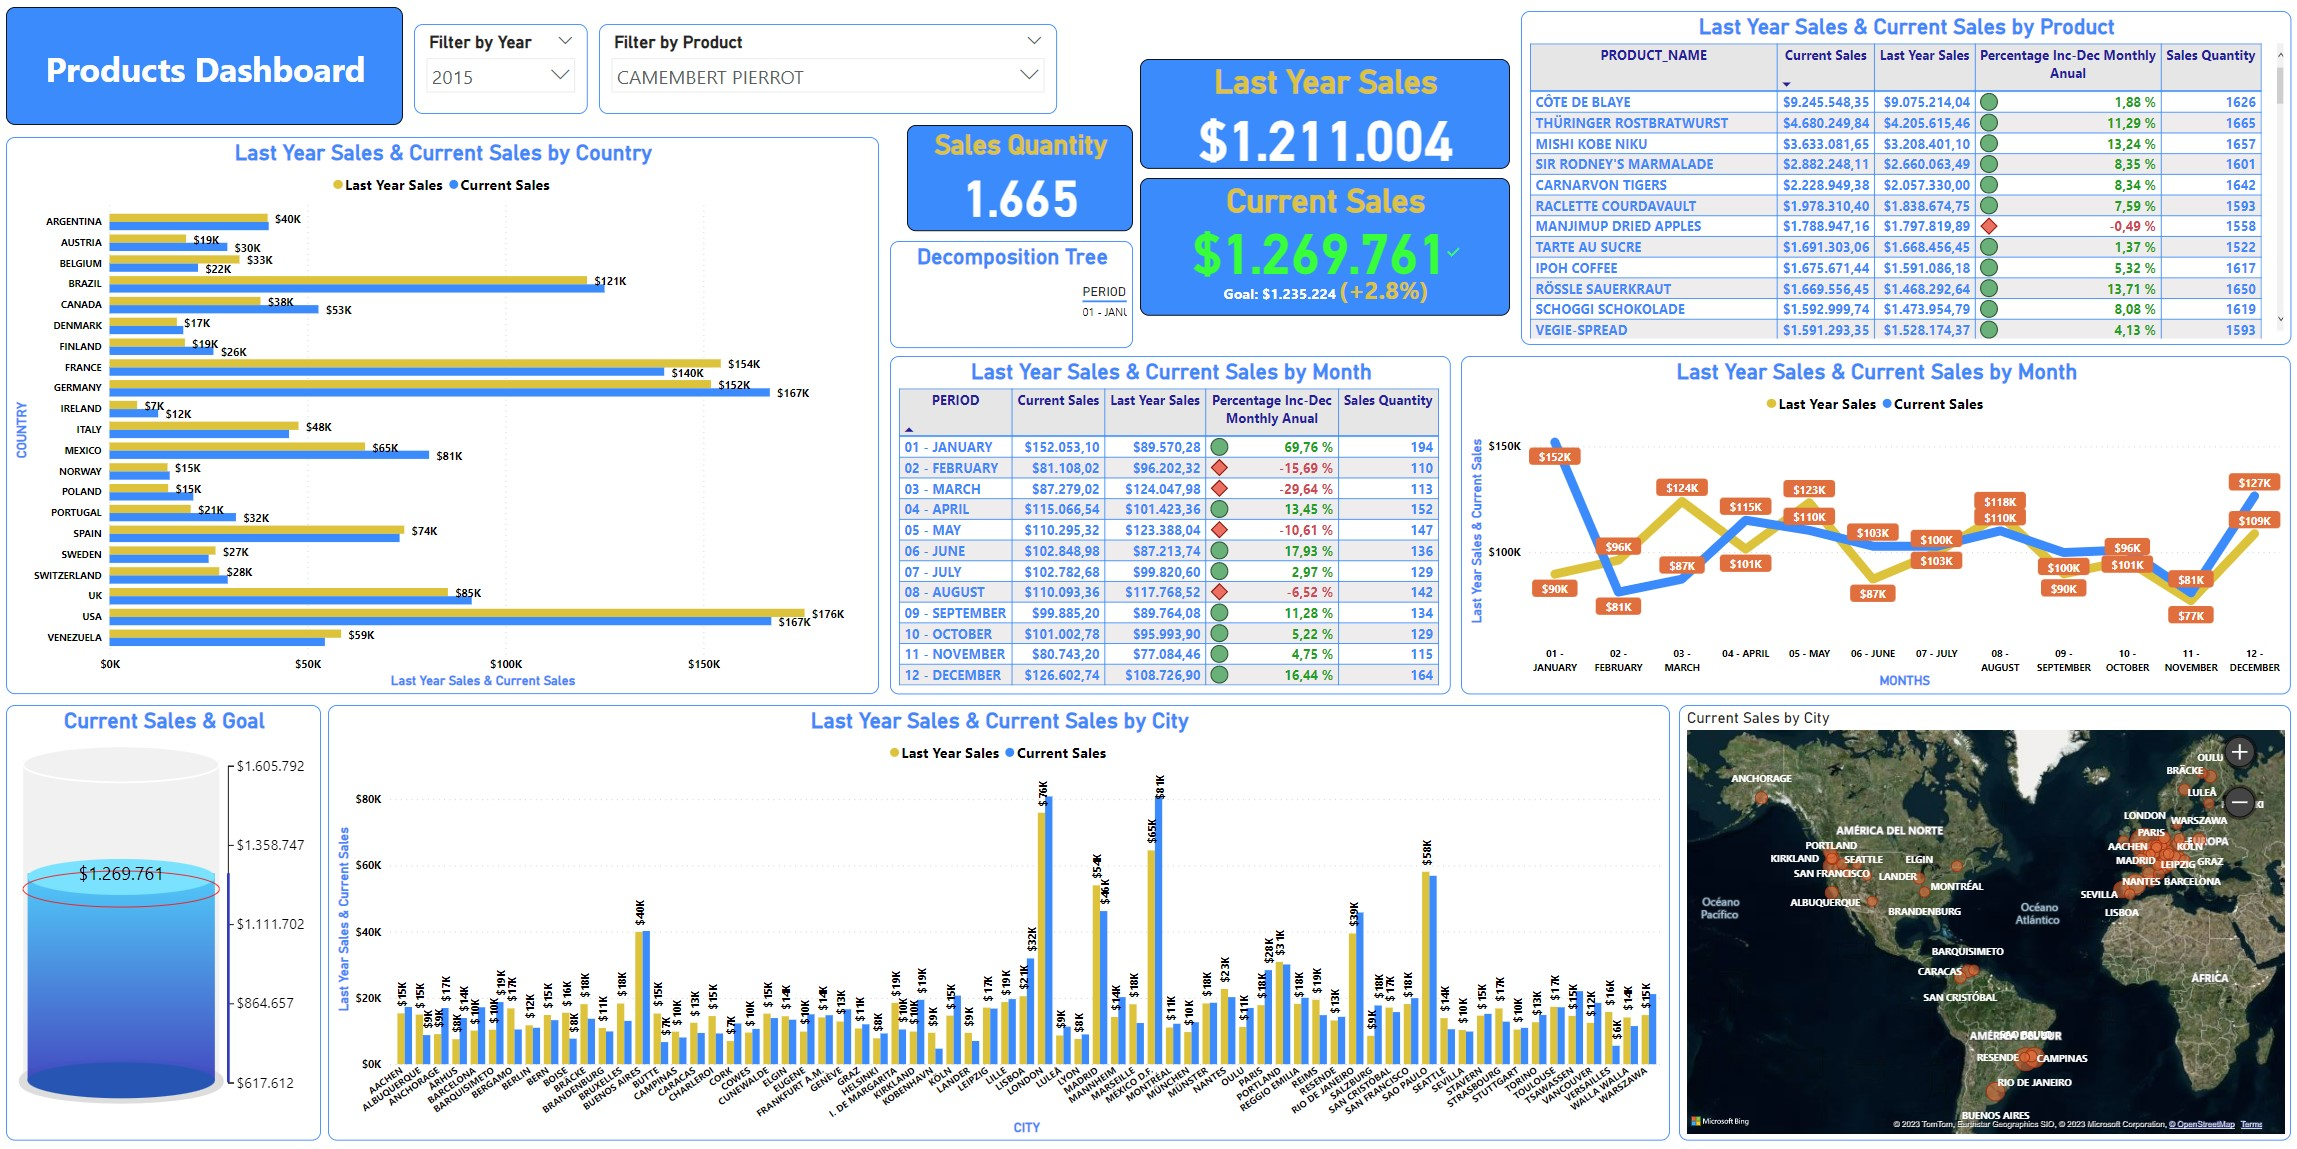

The dashboard page shown, as its layout file describes it:
{"tool":"powerbi","page":{"name":"Products","canvas":[2560,1280],"ordinal":3},"visuals":[{"type":"slicer","fields":{"Values":["DIM_TIME.YEAR"]},"box":[463.3,28.9,193.3,100],"z":0},{"type":"card","title":"Last Year Sales","fields":{"Values":["METRICAS.Ventas del año anterior"]},"box":[1270,67.8,411.1,122.2],"z":1000},{"type":"kpi","title":"Current Sales","fields":{"Indicator":["METRICAS.Ventas actuales"],"TrendLine":["DIM_TIME.YEAR"],"Goal":["METRICAS.Monto Meta"]},"box":[1270,200,411.1,153.3],"z":2000},{"type":"tableEx","title":"Last Year Sales & Current Sales by Month","fields":{"Values":["DIM_TIME.PERIOD","METRICAS.Ventas actuales","METRICAS.Ventas del año anterior","METRICAS.Porcentaje Inc-Dec Mensual Anual","METRICAS.Cantidad de ordenes"]},"box":[992.2,397.8,623.3,375.6],"z":3000},{"type":"card","title":"Sales Quantity","fields":{"Values":["METRICAS.Cantidad de ordenes"]},"box":[1011.1,141.1,251.1,117.8],"z":4000},{"type":"clusteredBarChart","title":"Last Year Sales & Current Sales by Country","fields":{"Category":["DIM_CUSTOMERS.COUNTRY"],"Y":["METRICAS.Ventas del año anterior","METRICAS.Ventas actuales"]},"box":[10,154.4,970,618.9],"z":5000},{"type":"lineChart","title":"Last Year Sales & Current Sales by Month","fields":{"Category":["DIM_TIME.PERIOD"],"Y":["METRICAS.Ventas del año anterior","METRICAS.Ventas actuales"]},"box":[1626.7,397.8,922.2,375.6],"z":6000},{"type":"clusteredColumnChart","title":"Last Year Sales & Current Sales by City","fields":{"Y":["METRICAS.Ventas del año anterior","METRICAS.Ventas actuales"],"Category":["DIM_CUSTOMERS.CITY"]},"box":[367.8,785.6,1491.1,484.4],"z":7000},{"type":"textbox","box":[10,10,441.1,131.1],"z":8000},{"type":"slicer","fields":{"Values":["DIM_PRODUCTS.PRODUCT_NAME"]},"box":[668.9,28.9,508.9,100],"z":9000},{"type":"tableEx","title":"Last Year Sales & Current Sales by Product","fields":{"Values":["DIM_PRODUCTS.PRODUCT_NAME","METRICAS.Ventas actuales","METRICAS.Ventas del año anterior","METRICAS.Porcentaje Inc-Dec Mensual Anual","METRICAS.Cantidad de ordenes"]},"box":[1693.3,14.4,855.6,371.1],"z":10000},{"type":"map","title":"Current Sales by City","fields":{"Category":["DIM_CUSTOMERS.CITY"],"Size":["METRICAS.Current Sales"]},"box":[1868.9,785.6,680,484.4],"z":11000},{"type":"decompositionTreeVisual","title":"Decomposition Tree","fields":{"Analyze":["METRICAS.Current Sales"],"ExplainBy":["DIM_TIME.PERIOD","DIM_EMPLOYEES.EMPLOYEE_NAME","DIM_PRODUCTS.CATEGORY","DIM_PRODUCTS.PRODUCT_NAME","DIM_PRODUCTS.SUPPLIER","DIM_CUSTOMERS.CONTACT_NAME"]},"box":[992.2,270,270,118.9],"z":12000},{"type":"cylindricalGauge73A12A442345453EB69B593649C3A341","title":"Current Sales & Goal","fields":{"Values":["METRICAS.Current Sales"],"TargetValue":["METRICAS.Goal"],"Min":["METRICAS.Min Sales"],"Max":["METRICAS.Max Sales"]},"box":[10,785.6,350,484.4],"z":13000}]}

Visuals, with their boxes in screenshot pixels (x1, y1, x2, y2), scaled from the page's 2560x1280 canvas onto the 2297x1149 screenshot:
slicer - DIM_TIME.YEAR: 416 26 589 116
"Last Year Sales" card: 1140 61 1508 171
"Current Sales" kpi: 1140 180 1508 317
"Last Year Sales & Current Sales by Month" tableEx: 890 357 1450 694
"Sales Quantity" card: 907 127 1133 232
"Last Year Sales & Current Sales by Country" clusteredBarChart: 9 139 879 694
"Last Year Sales & Current Sales by Month" lineChart: 1460 357 2287 694
"Last Year Sales & Current Sales by City" clusteredColumnChart: 330 705 1668 1140
textbox: 9 9 405 127
slicer - DIM_PRODUCTS.PRODUCT_NAME: 600 26 1057 116
"Last Year Sales & Current Sales by Product" tableEx: 1519 13 2287 346
"Current Sales by City" map: 1677 705 2287 1140
"Decomposition Tree" decompositionTreeVisual: 890 242 1133 349
"Current Sales & Goal" cylindricalGauge73A12A442345453EB69B593649C3A341: 9 705 323 1140
